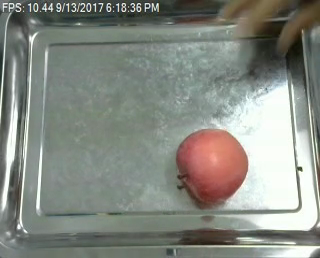Apple: (175, 128, 247, 205)
